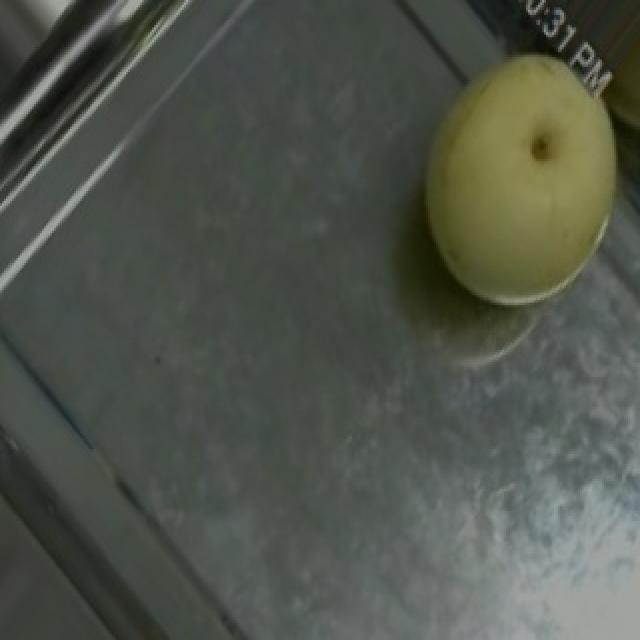Fruit: (372, 10, 640, 347)
